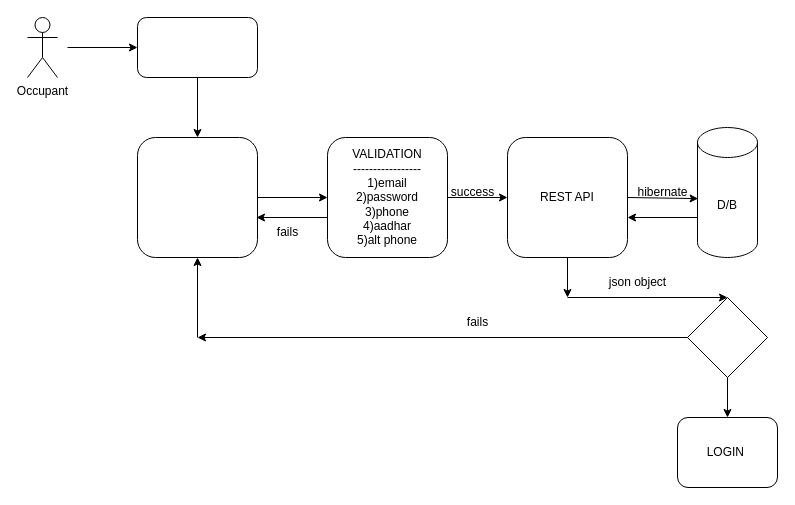
Image size: 795x505. Some labels were removed from this diagram. Here are the shapes that lost their labels. From the top down, the centre of each, then its label:
pixel 197 47: MAIN COMPONENT
pixel 197 197: Occupant Registration
